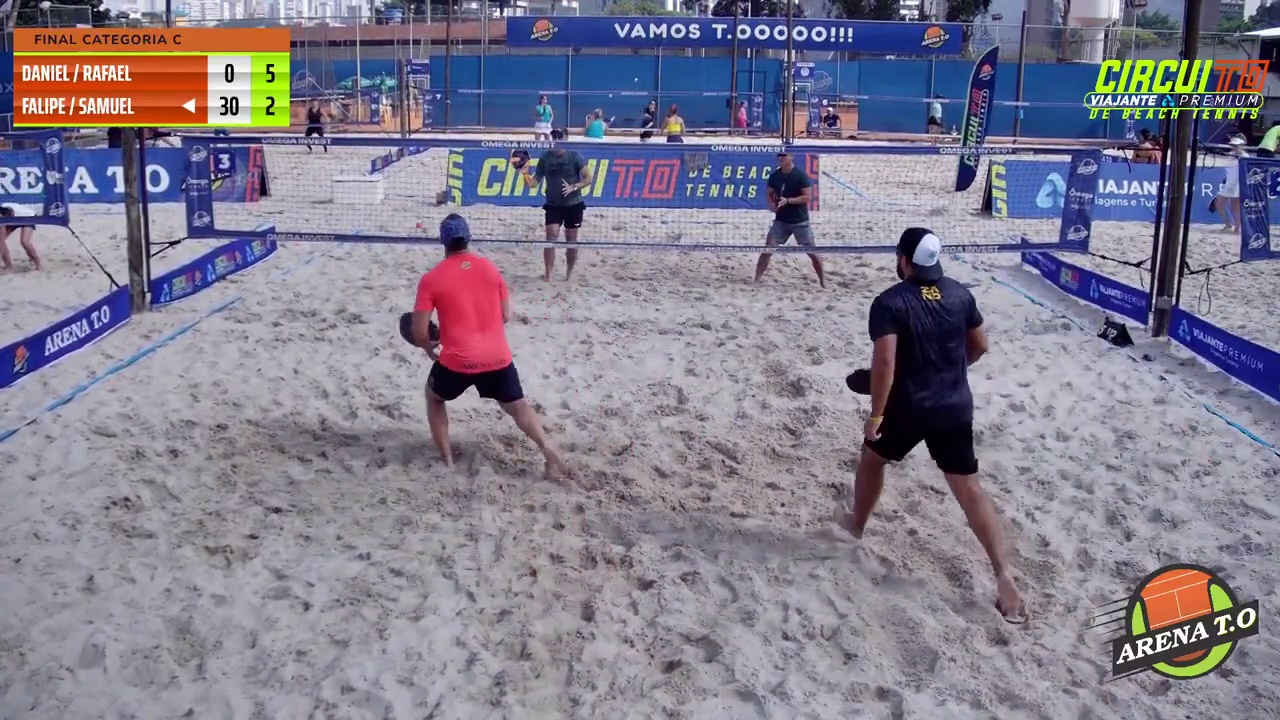court_line: (637, 0, 794, 387)
